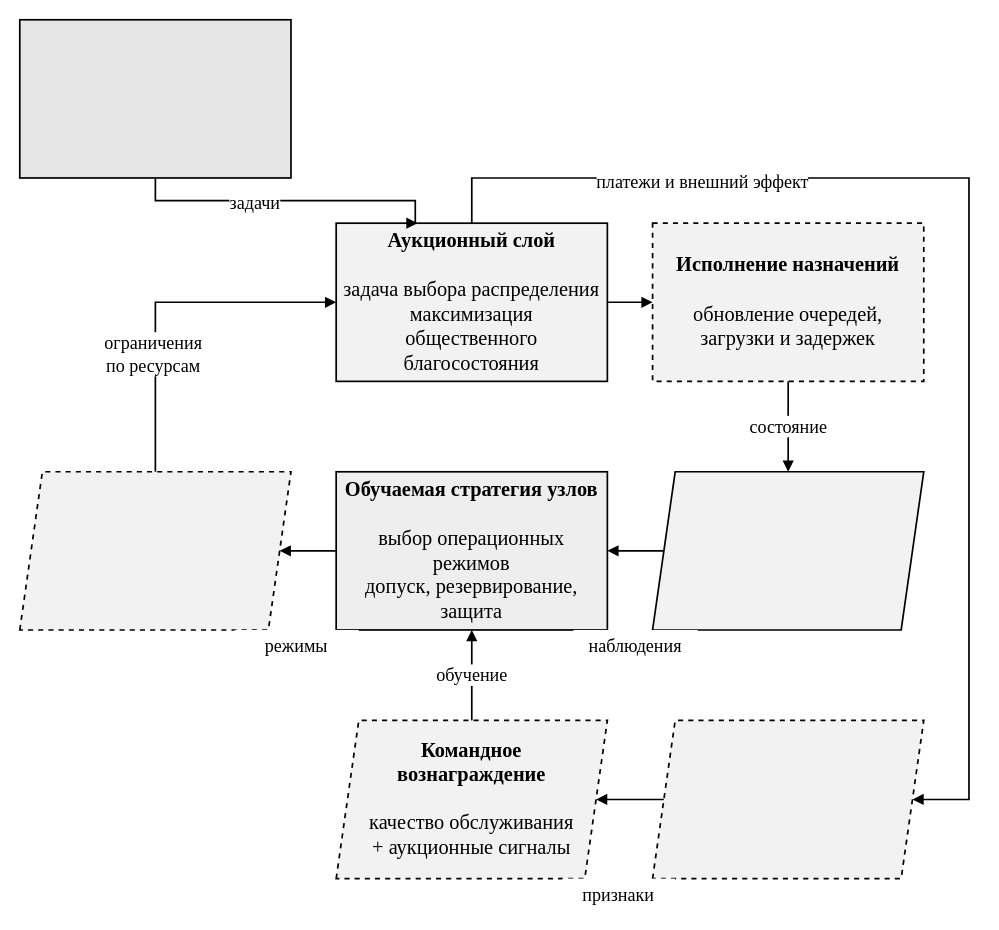
Image size: 999x930. Some labels were removed from this diagram. Each missing label, with the centre of its shape:
Аукционные признаки платежи, внешний эффект, дефицит ресурсов: the point at 787,799
Уровень периферийных узлов очереди, загрузка, задержки, отказы: the point at 787,550
Уровень роботов Формируют вычислительные задачи класс, срок, приоритет, ресурсы: the point at 154,98
Экспонируемая ёмкость ресурсы, открытые для текущего раунда: the point at 154,550
